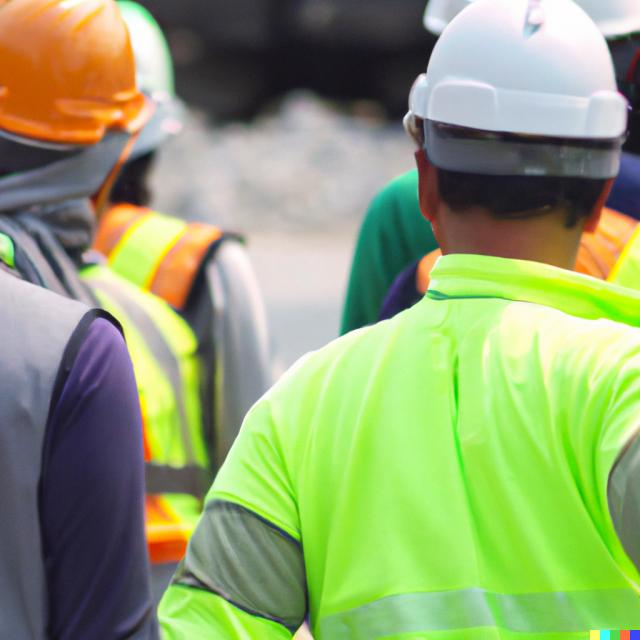Reflective-Jacket: (212, 239, 640, 640), (0, 189, 231, 624)
Safety-Helmet: (403, 3, 632, 142), (0, 1, 175, 145)
